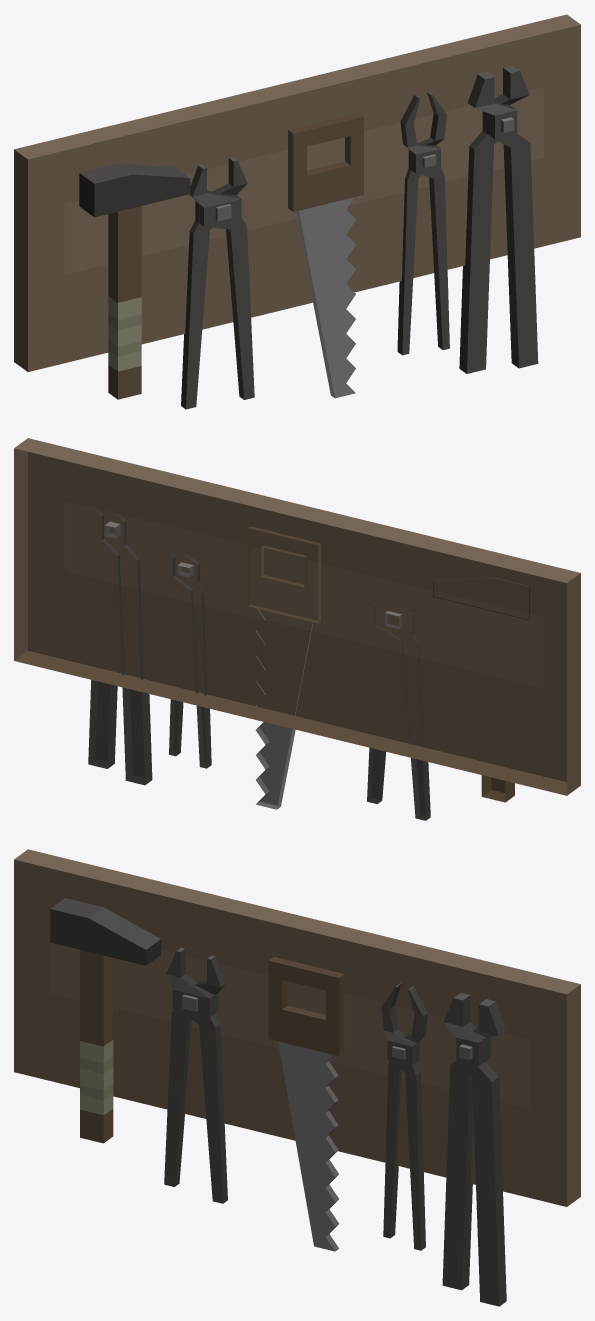
The model's file is SD_Prop_Toolrack_01.fbx.
The picture shows the model from 3 angles, top to bottom: view 1: azimuth 30°, elevation 25°; view 2: azimuth 150°, elevation 25°; view 3: azimuth 330°, elevation 25°; orthographic projection.
Parts seen in each view (by area): view 1: SD_Prop_Toolrack_01; view 2: SD_Prop_Toolrack_01; view 3: SD_Prop_Toolrack_01.
Part boxes in pixels (x1,y1,x2,y2): SD_Prop_Toolrack_01: [14, 14, 580, 409]; SD_Prop_Toolrack_01: [14, 438, 580, 820]; SD_Prop_Toolrack_01: [14, 849, 580, 1306].
Size of the model in its own units: 3.48 by 1.9 by 0.3191.
